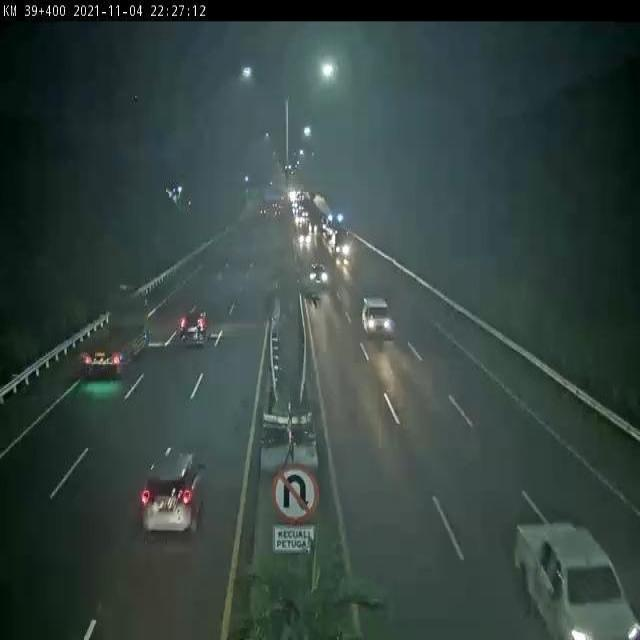Car: (510, 519, 639, 640), (138, 439, 210, 552), (177, 308, 210, 346), (307, 264, 330, 288), (299, 233, 311, 245)
Truck: (84, 289, 152, 390), (327, 227, 353, 265)
Van: (362, 296, 396, 344)
